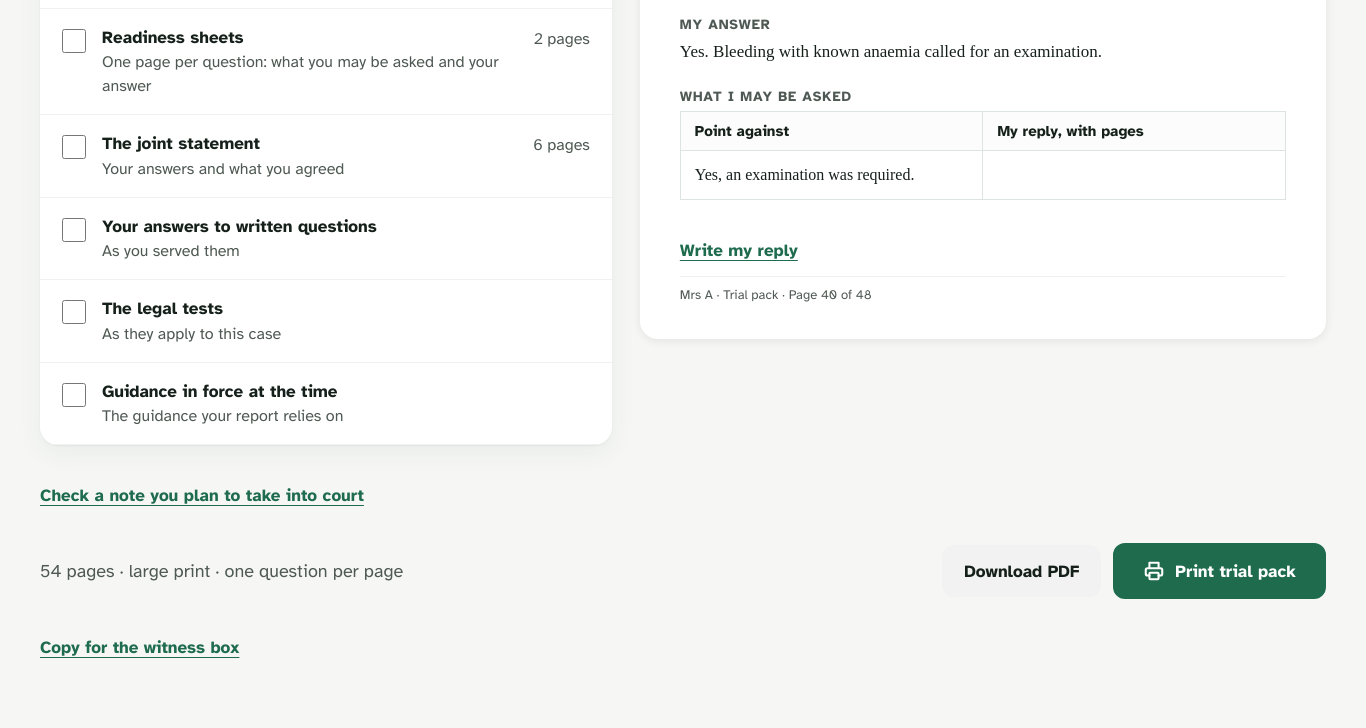
checking a new note says which sentences come from what was served
(page scrolled)
Click the button "Check a note you plan to take into court" at (202, 495), box [40,469,364,521]
(page scrolled)
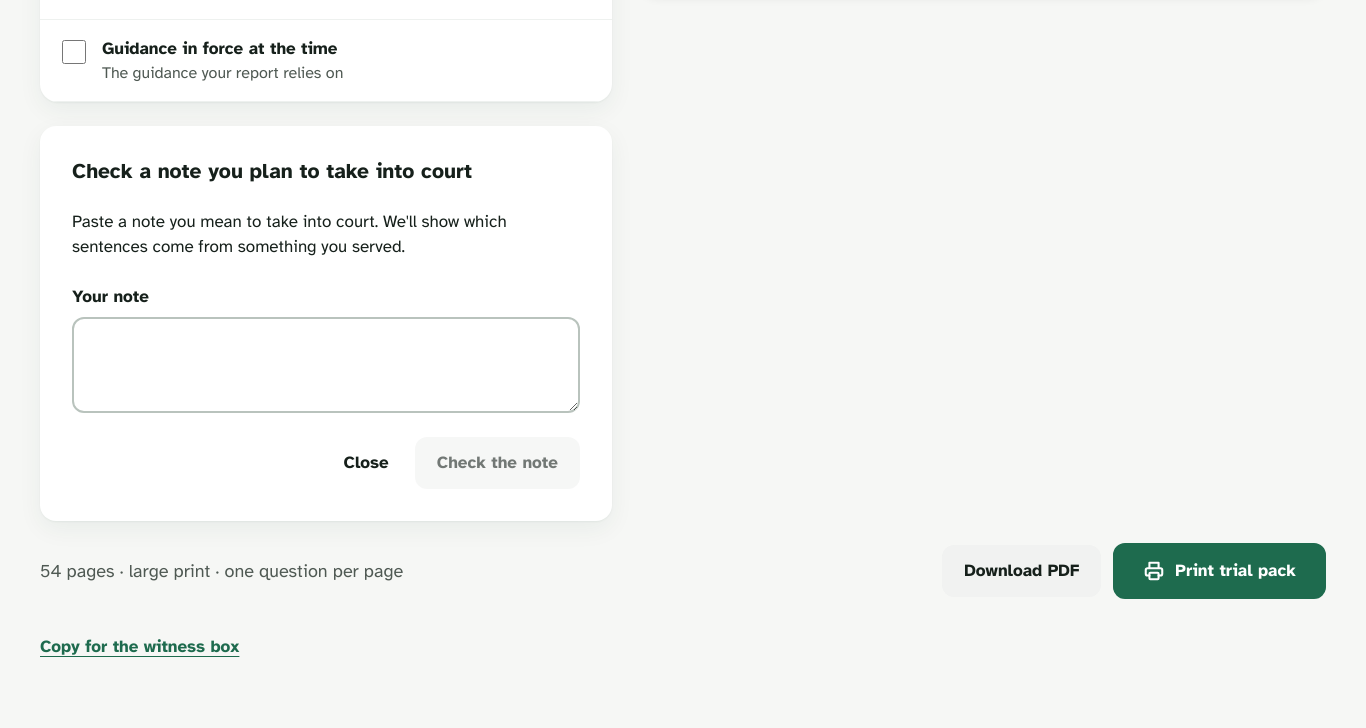
Type "The plan was recorded. Zz the patient moved abroad." into the text box labelled "Your note" at (326, 365), box [72,317,580,413]
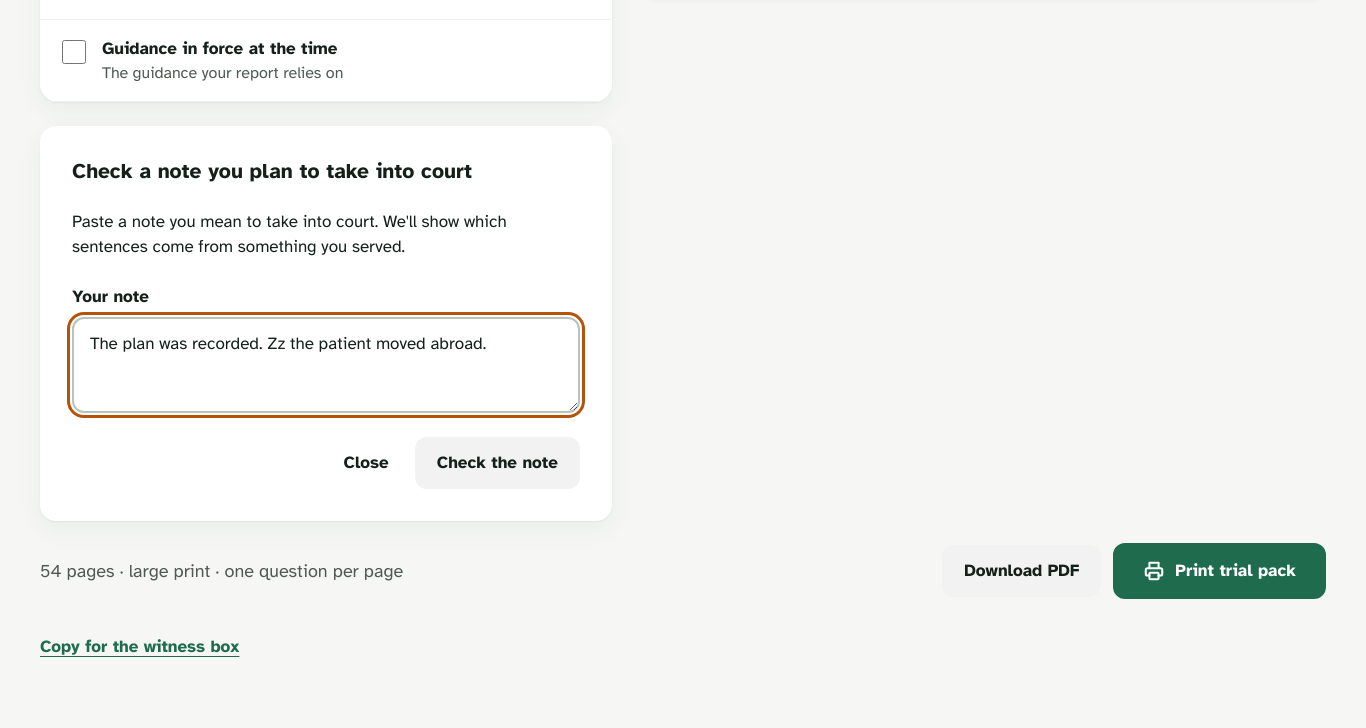
Click the button "Check the note" at (497, 463), box [415,437,580,489]
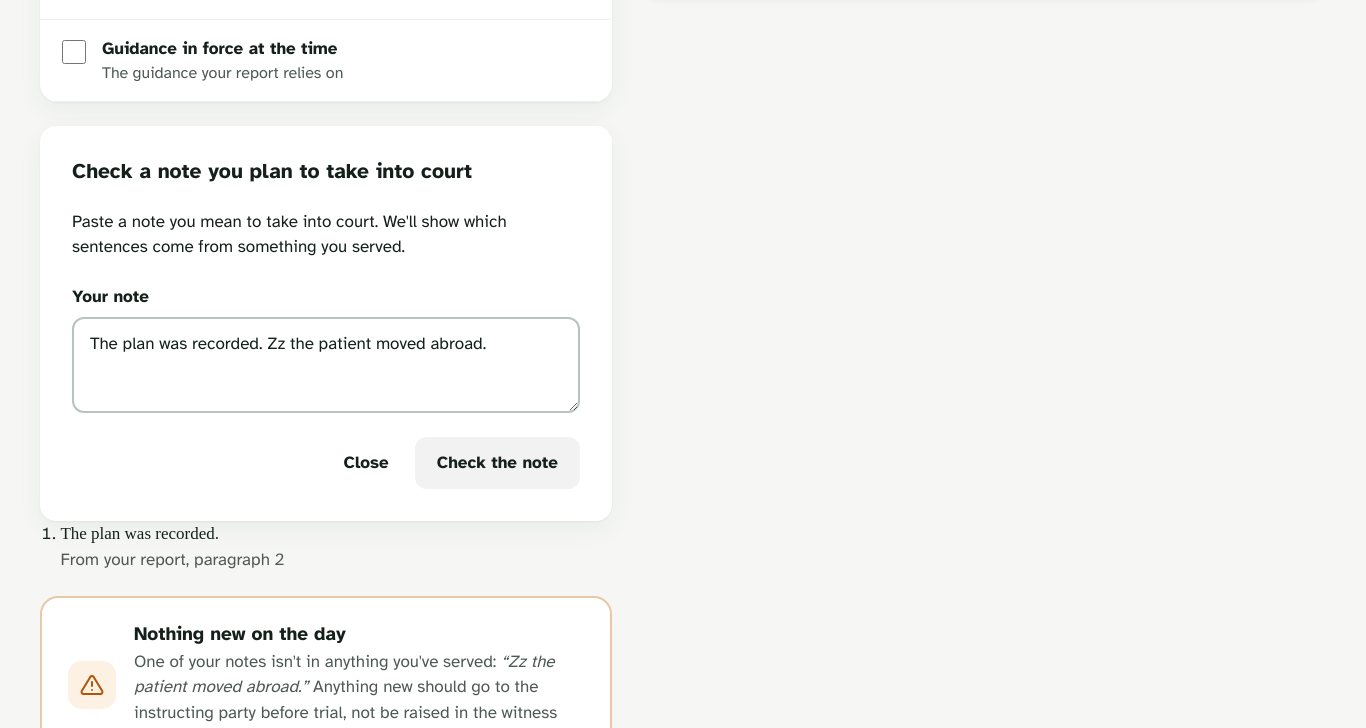
Expected: the text "Nothing new on the day" is shown, [134,622,346,646]
Expected: the text "“Zz the patient moved abroad.”" is shown, [134,650,554,697]
